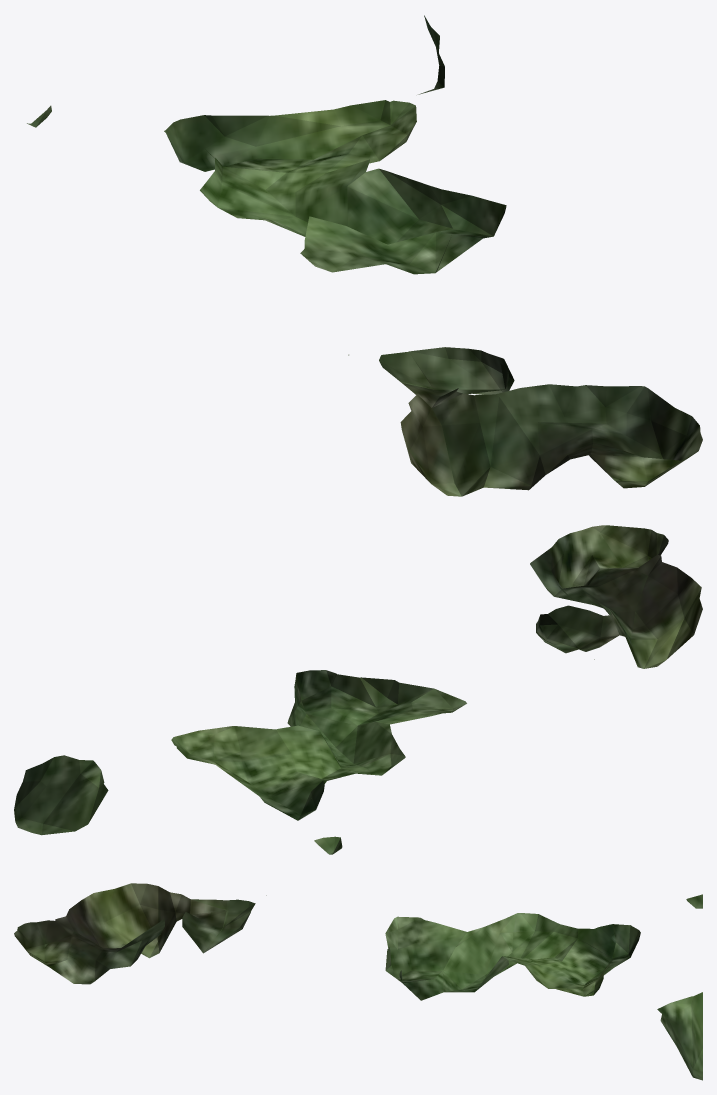
3 renders of one model, top to bottom at view 1: azimuth 30°, elevation 25°; view 2: azimuth 150°, elevation 25°; view 3: azimuth 270°, elevation 25°, orthographic. The views are drawn at different scales.
Size of the model in its own units: 2.99 by 0.5149 by 5.88.
1 material, 1 textured.
